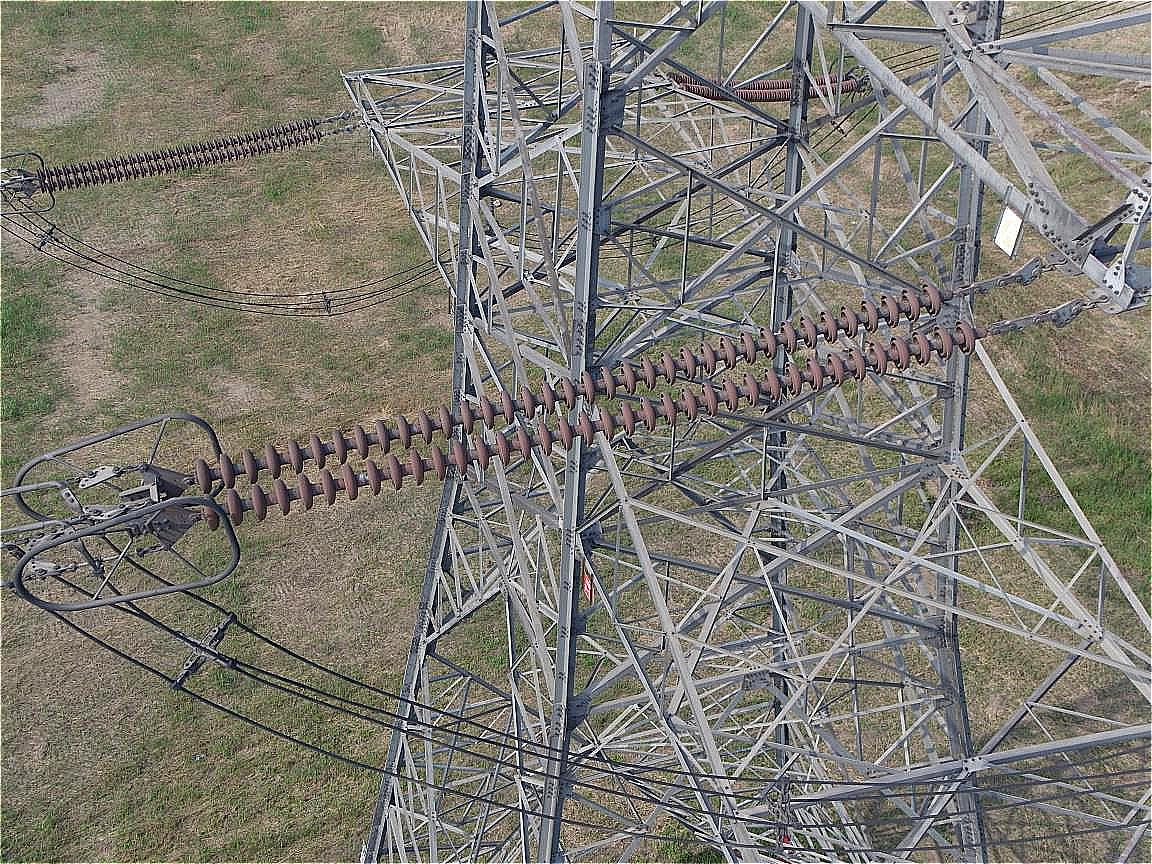insultor1: (170, 274, 997, 545), (20, 115, 329, 196)
